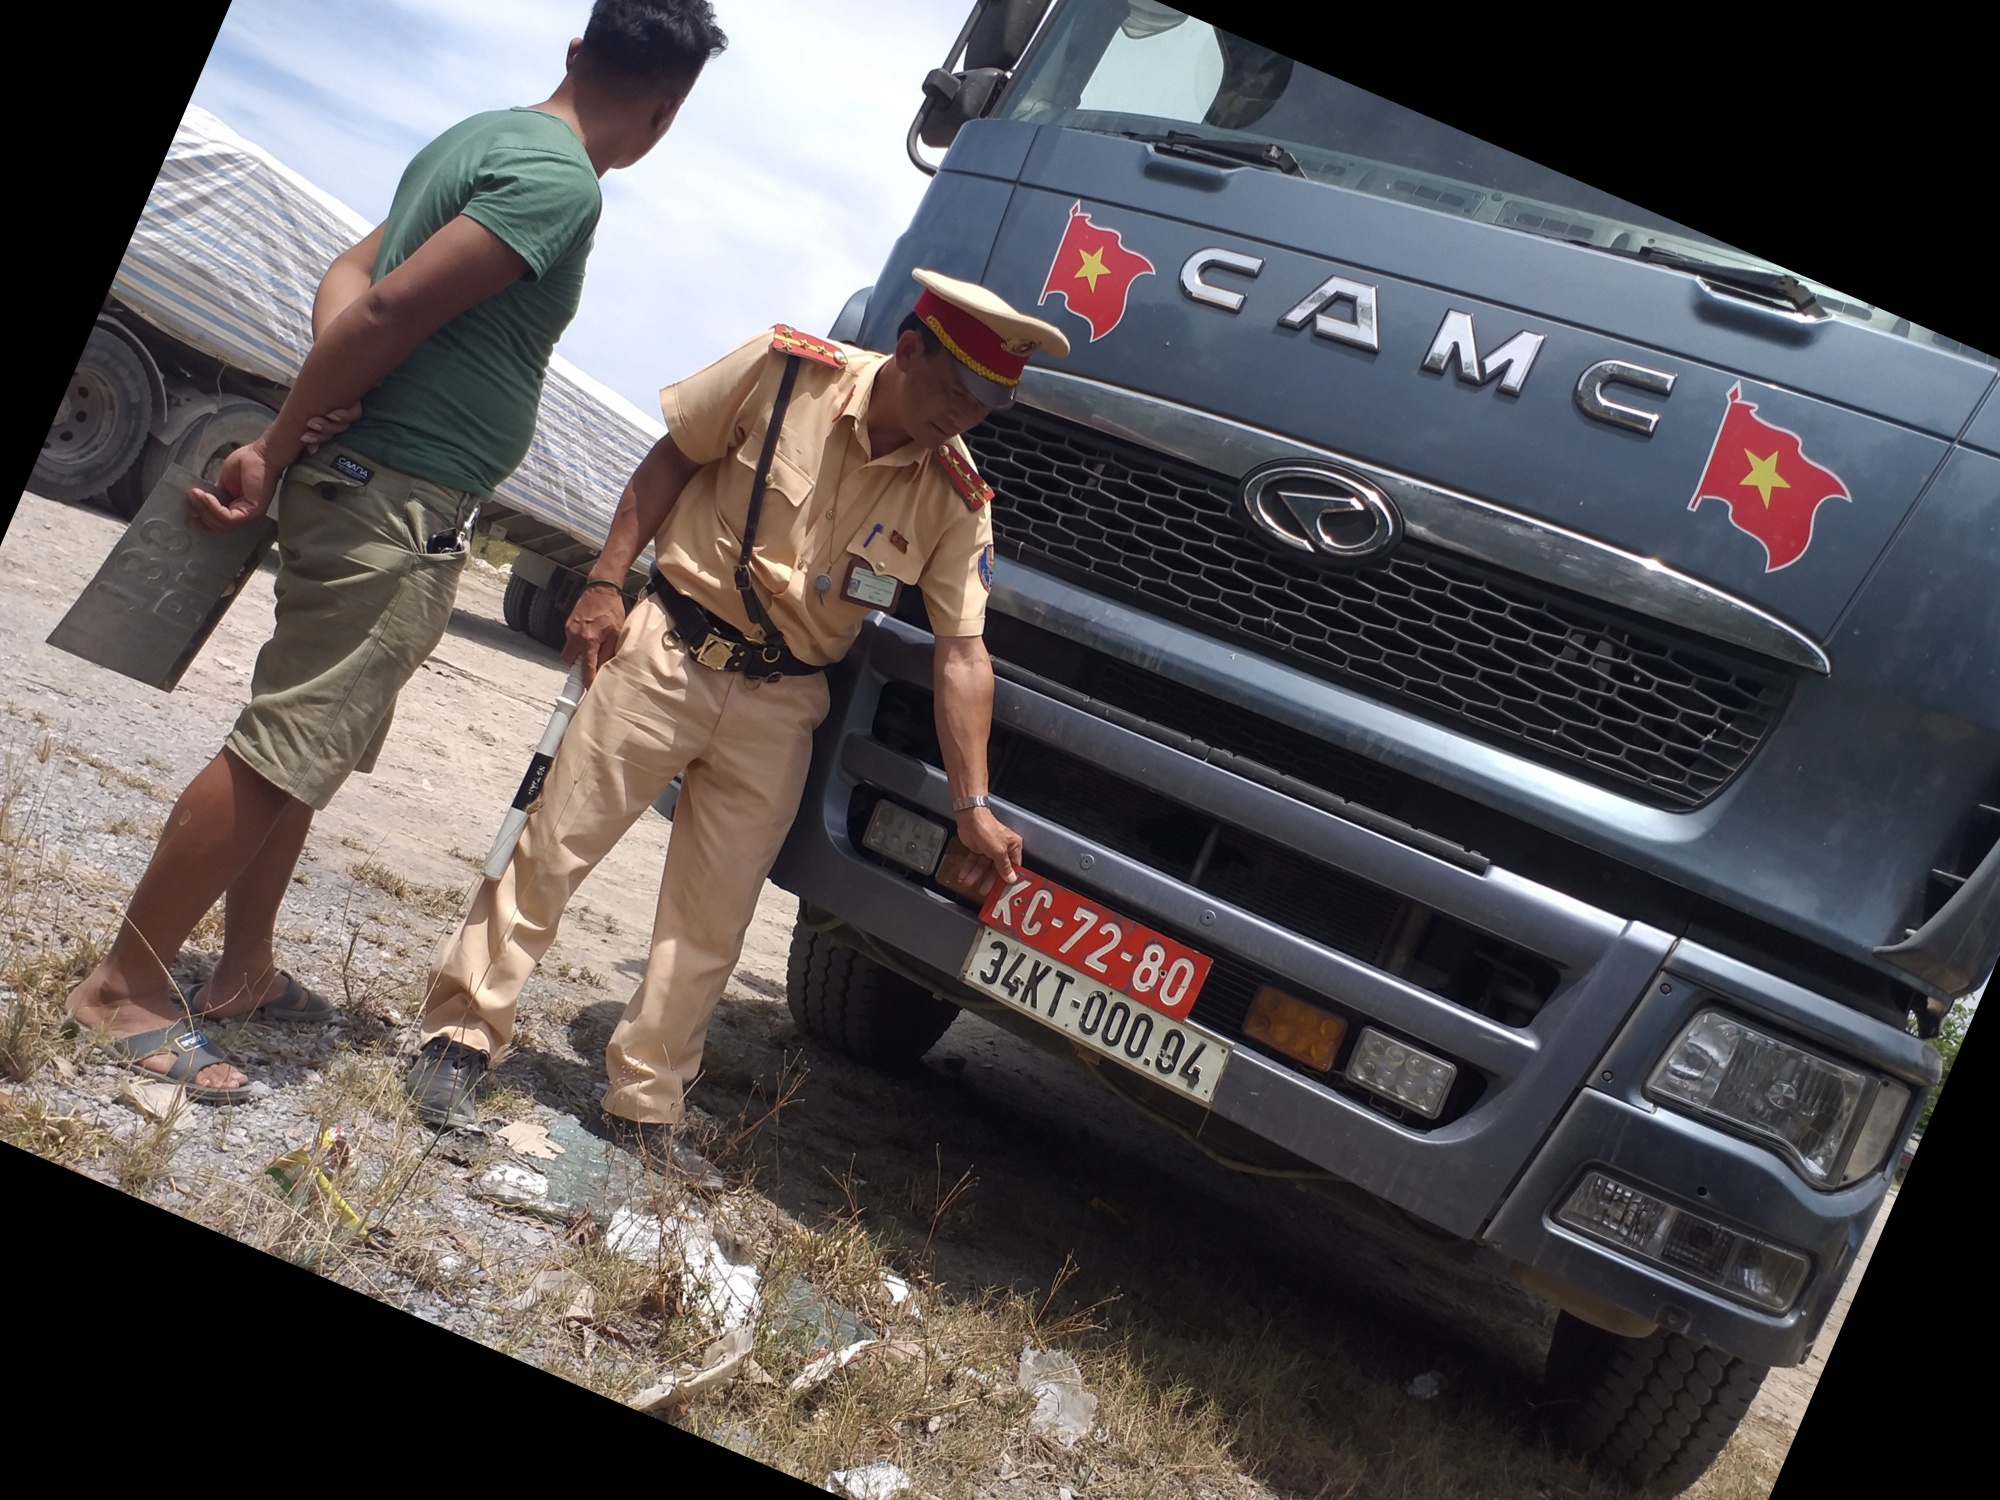plate: (962, 930, 1232, 1122), (982, 857, 1218, 1005)
